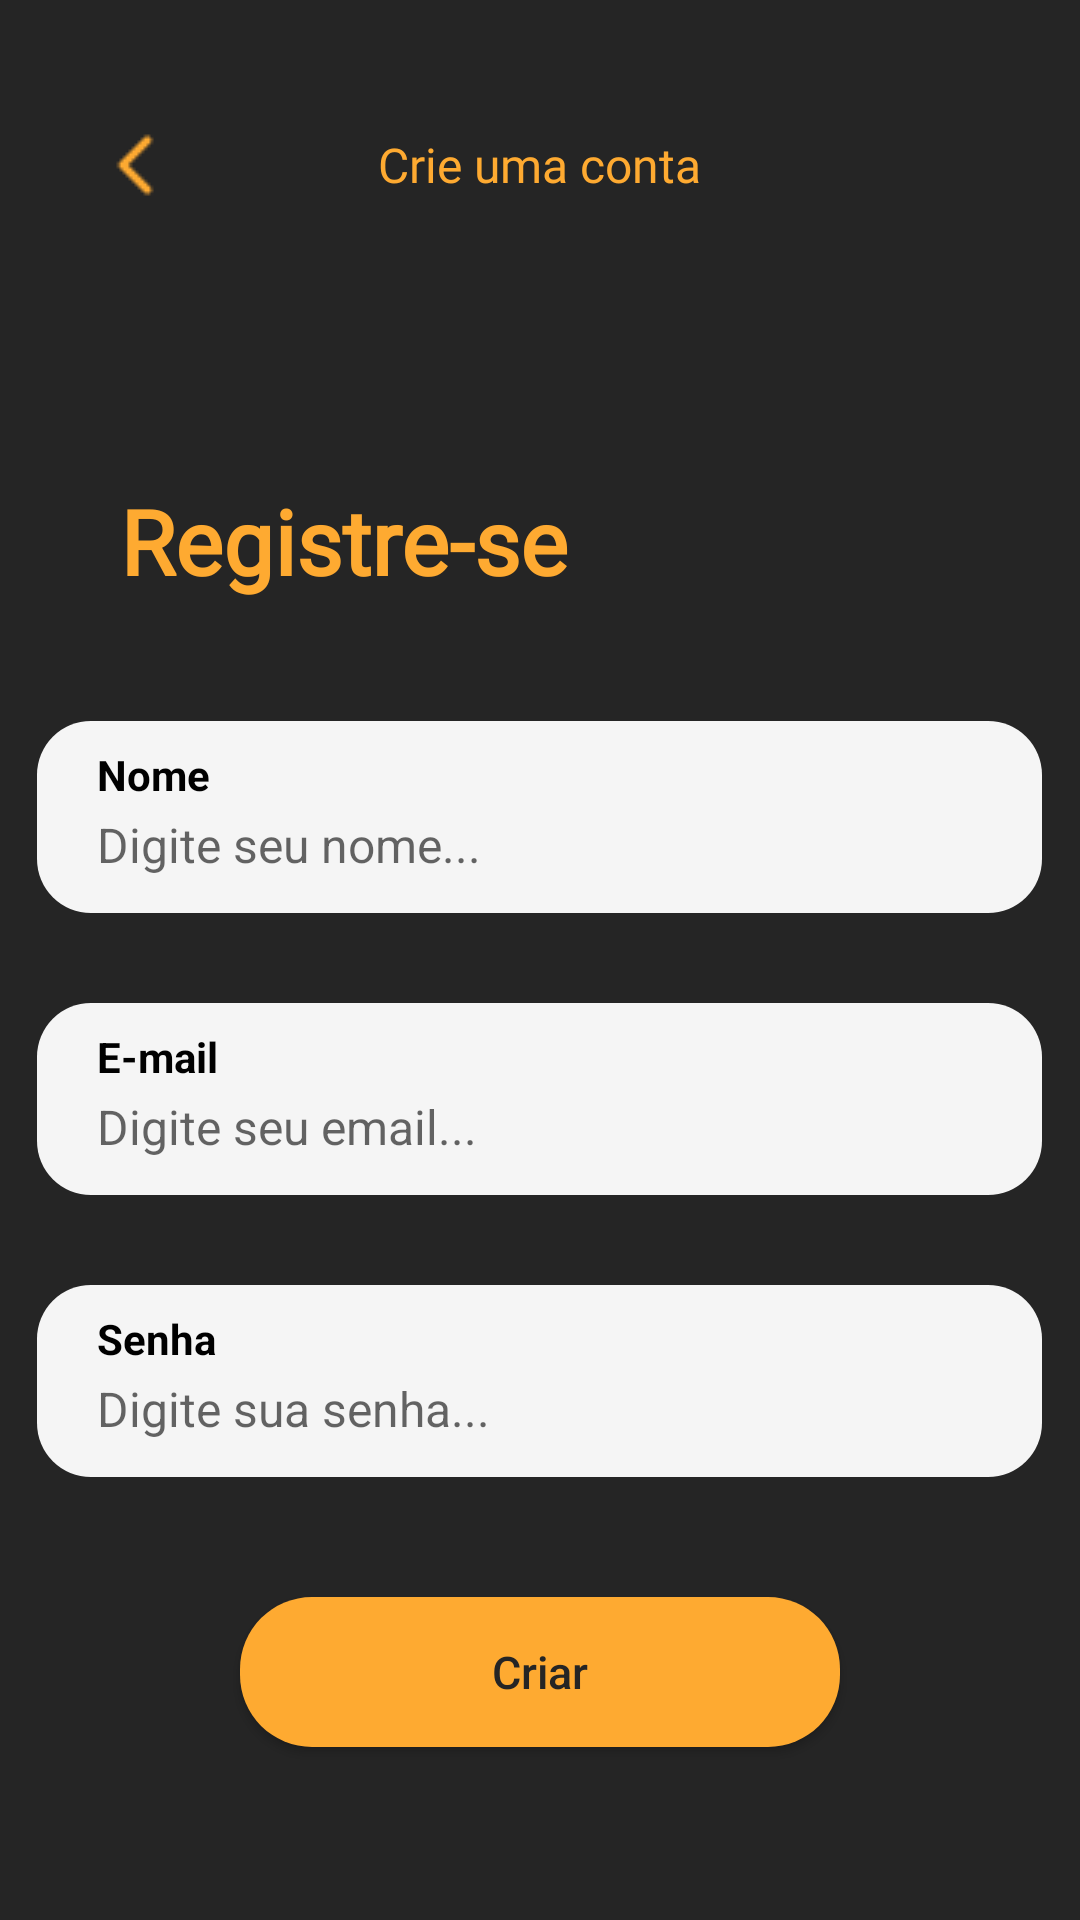

Named icons in this screenshot (1080 × 1920) and their bounding boxes, bbox=[x1, y1, x2, y2]:
backicon: bbox=[117, 134, 154, 196]
